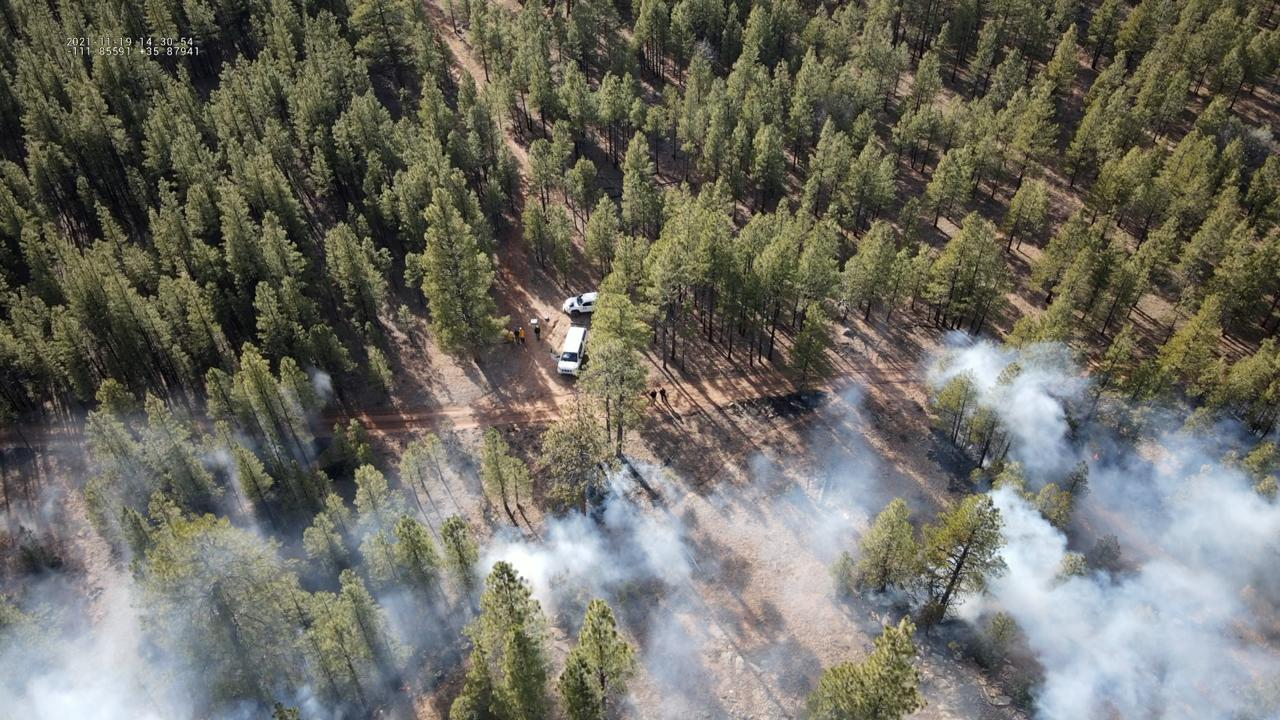fire: (1092, 451, 1102, 462)
smoke: (0, 328, 1280, 720)
